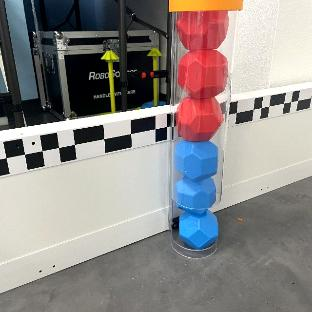V5_BLUE: (174, 140, 218, 178), (176, 211, 218, 249), (174, 177, 216, 211)
V5_RED: (177, 47, 228, 101), (176, 96, 224, 140), (176, 10, 230, 49)
